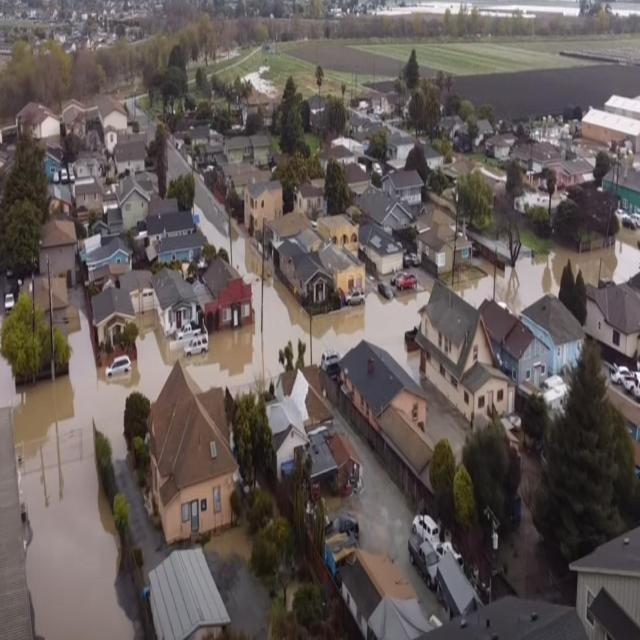flood: (0, 222, 261, 638), (312, 270, 433, 379), (498, 452, 577, 606), (496, 239, 640, 314), (342, 428, 417, 570), (263, 262, 310, 386), (422, 381, 471, 463), (194, 172, 229, 251), (455, 263, 494, 306), (168, 141, 190, 177)
house: (140, 357, 246, 564), (412, 279, 504, 414), (339, 338, 427, 453), (474, 285, 545, 427), (393, 594, 602, 640), (339, 552, 434, 638), (570, 524, 640, 640), (146, 543, 228, 640), (276, 226, 362, 314), (519, 292, 584, 398), (586, 264, 637, 374), (554, 183, 620, 251), (89, 279, 145, 357), (268, 391, 311, 492), (202, 251, 253, 336), (153, 264, 207, 344), (143, 196, 198, 265), (582, 98, 640, 160), (415, 212, 469, 278), (38, 215, 82, 288), (79, 231, 130, 287), (243, 173, 284, 237), (362, 184, 414, 232), (382, 166, 427, 219), (16, 100, 60, 154), (118, 178, 150, 230), (74, 178, 103, 219), (98, 93, 130, 129), (114, 142, 146, 174), (224, 138, 252, 164), (486, 132, 510, 160), (388, 131, 410, 161), (191, 125, 211, 146), (383, 95, 397, 117)
